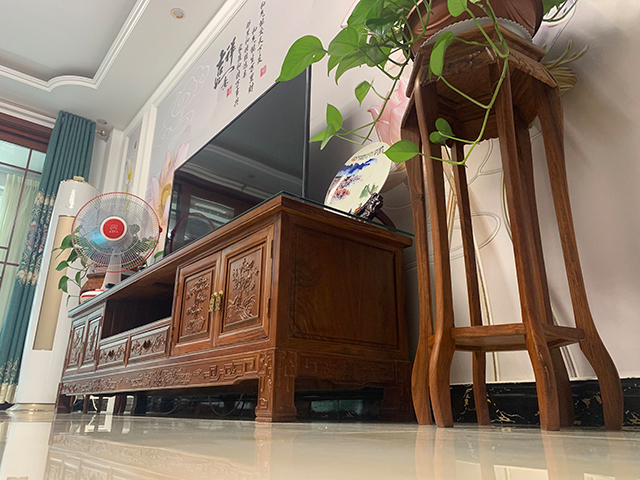cabinet: (53, 189, 414, 423)
curtain: (1, 110, 96, 405)
